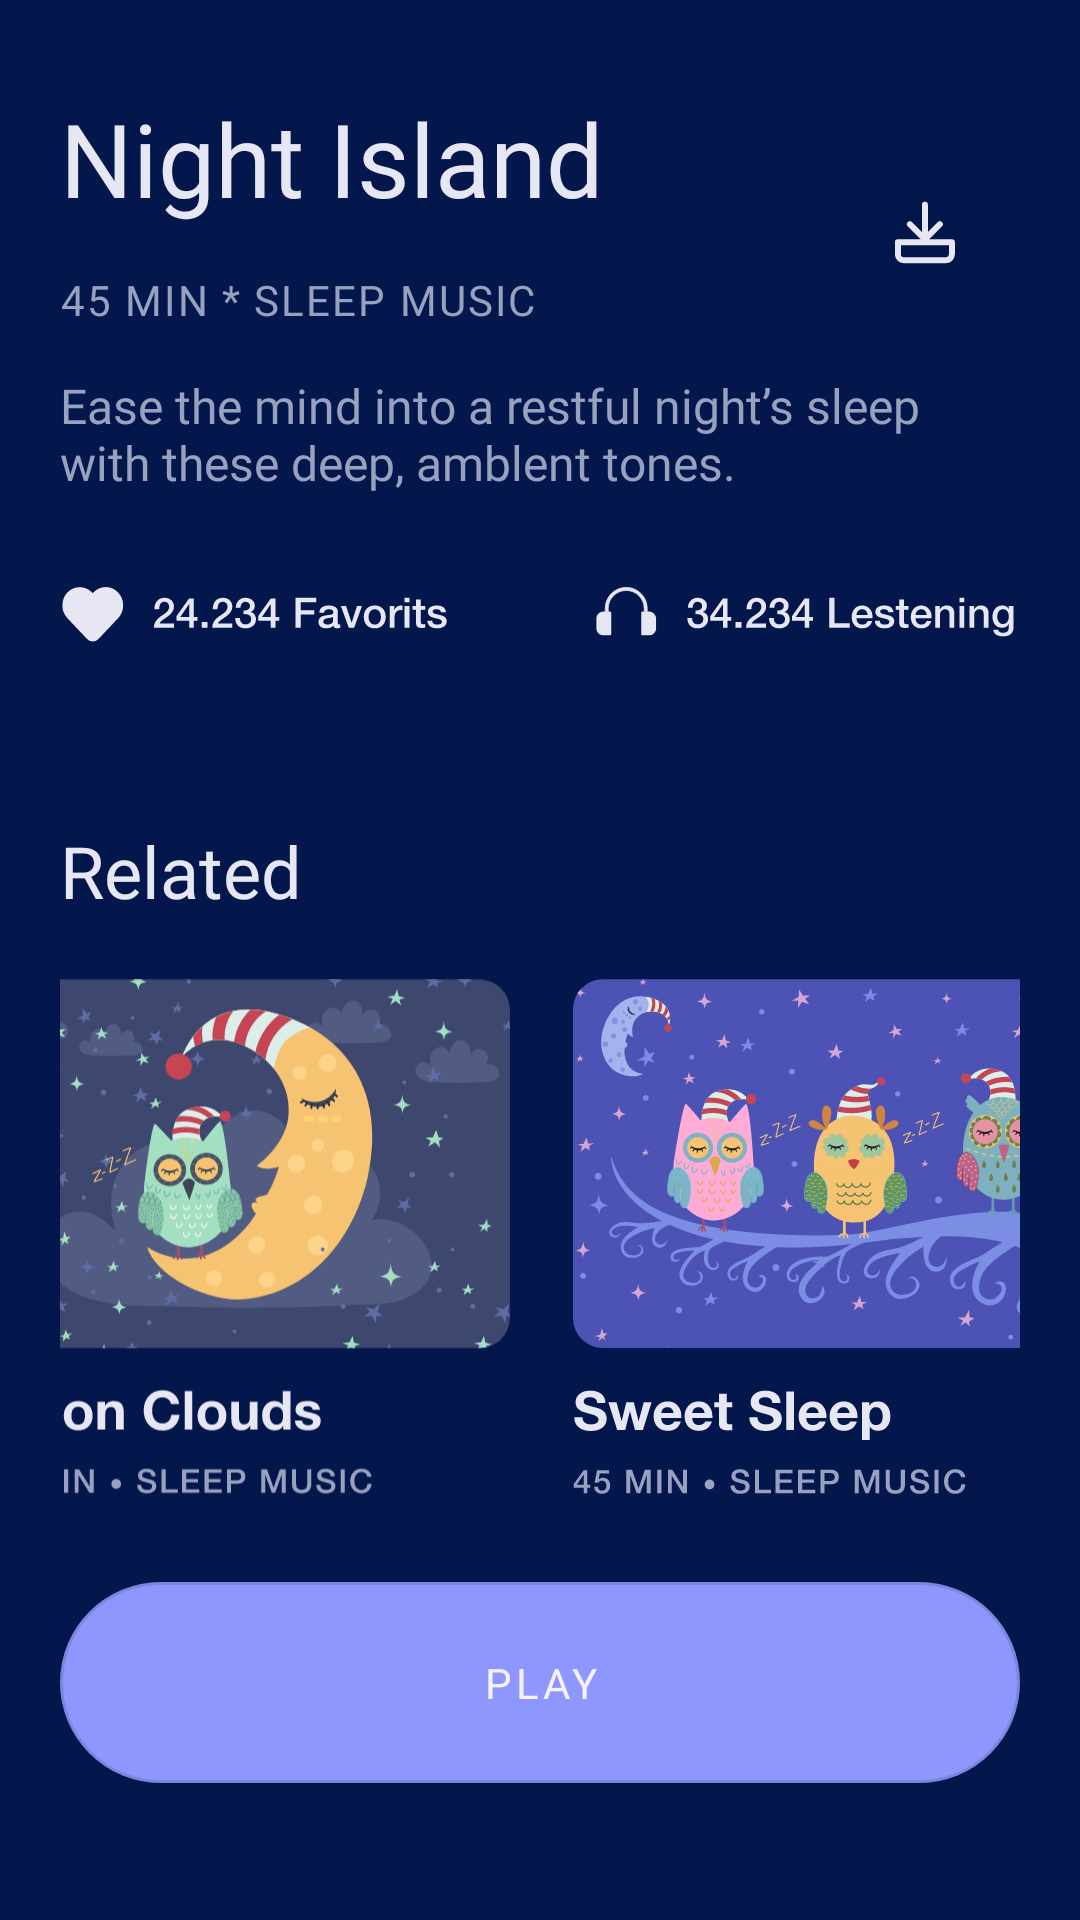

Point at icon controls on the screen. Image size 1080px×1920px, points as [x,y].
download: [925,232]
